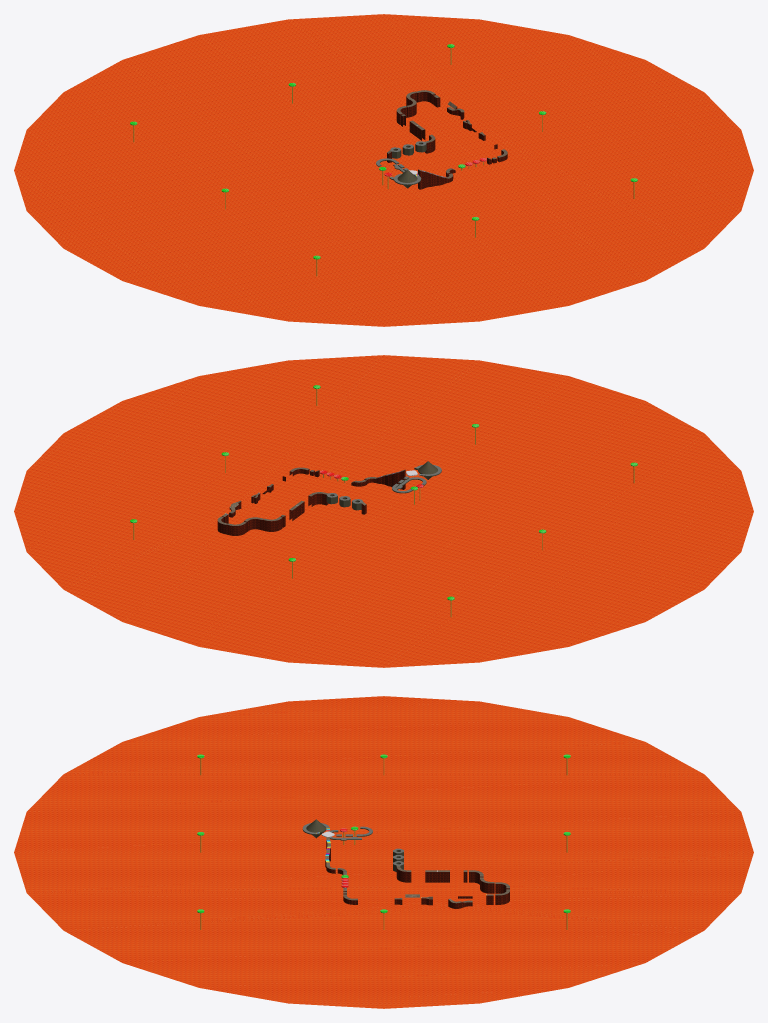
The picture shows the model from 3 angles, top to bottom: view 1: azimuth 30°, elevation 25°; view 2: azimuth 150°, elevation 25°; view 3: azimuth 270°, elevation 25°; orthographic projection.
Visible parts, largest first — view 1: course-SKP--vesuvio_magma_fall, course-SKP--vesuvio_wall_rock, course-SKP--vesuvio_wall_metal, course-SKP--vesuvio_road_rock; view 2: course-SKP--vesuvio_magma_fall, course-SKP--vesuvio_wall_rock, course-SKP--vesuvio_wall_metal, course-SKP--vesuvio_road_rock; view 3: course-SKP--vesuvio_magma_fall, course-SKP--vesuvio_wall_rock, course-SKP--vesuvio_road_rock.
Boxes of the visible parts, <box> form: course-SKP--vesuvio_magma_fall: <box>14,14,753,326</box>; course-SKP--vesuvio_wall_rock: <box>387,92,507,189</box>; course-SKP--vesuvio_wall_metal: <box>376,142,426,188</box>; course-SKP--vesuvio_road_rock: <box>387,90,507,178</box>; course-SKP--vesuvio_magma_fall: <box>14,355,753,667</box>; course-SKP--vesuvio_wall_rock: <box>217,469,405,535</box>; course-SKP--vesuvio_wall_metal: <box>326,461,441,510</box>; course-SKP--vesuvio_road_rock: <box>217,467,404,525</box>; course-SKP--vesuvio_magma_fall: <box>14,696,753,1008</box>; course-SKP--vesuvio_wall_rock: <box>325,841,509,908</box>; course-SKP--vesuvio_road_rock: <box>325,837,509,903</box>.
Size of the model in its own units: 808808 by 34000 by 808808.
12 materials, 12 textured.
